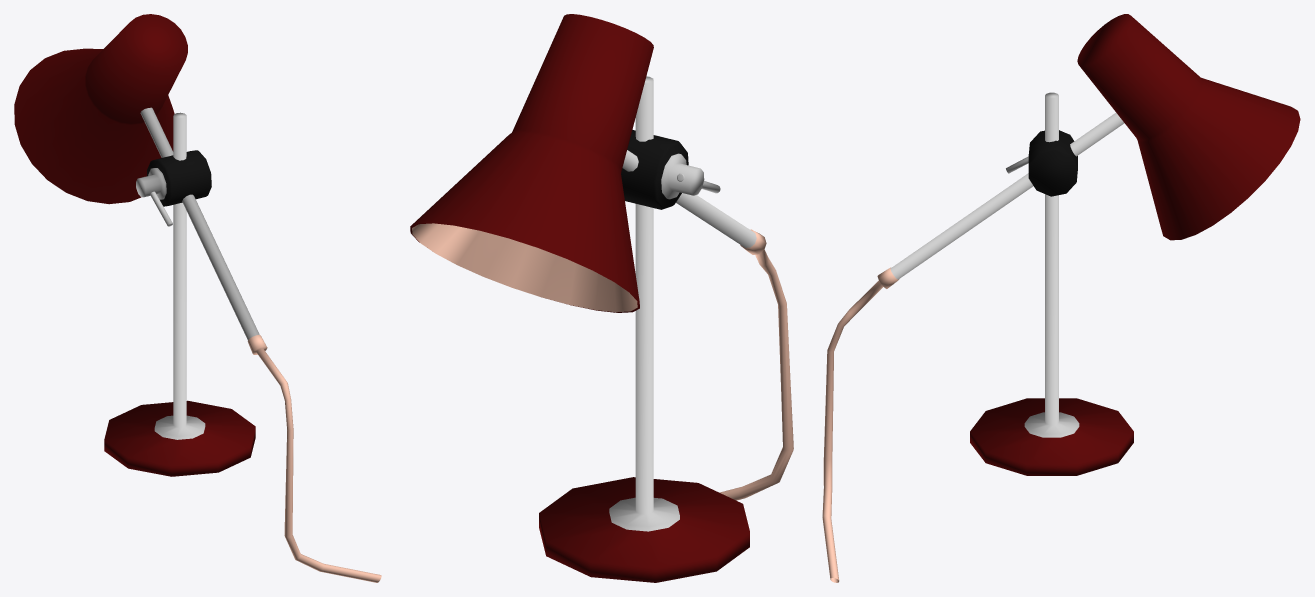
File: obj_Lampe_VEB_NARVA_Kombinat_70er.obj
3 views of the same model, side by side, from view 1: azimuth 30°, elevation 25°; view 2: azimuth 150°, elevation 25°; view 3: azimuth 270°, elevation 25° (orthographic). The views are drawn at different scales.
Visible parts, largest first — view 1: obj_Lampe_VEB_NARVA_Kombinat_70er; view 2: obj_Lampe_VEB_NARVA_Kombinat_70er; view 3: obj_Lampe_VEB_NARVA_Kombinat_70er.
Boxes of the visible parts, x1,y1,x2,y2 form: obj_Lampe_VEB_NARVA_Kombinat_70er: (14, 14, 381, 582); obj_Lampe_VEB_NARVA_Kombinat_70er: (410, 14, 793, 582); obj_Lampe_VEB_NARVA_Kombinat_70er: (822, 14, 1300, 582).
Bounding box in the file's own units: 0.2206 × 0.5924 × 0.4978.
